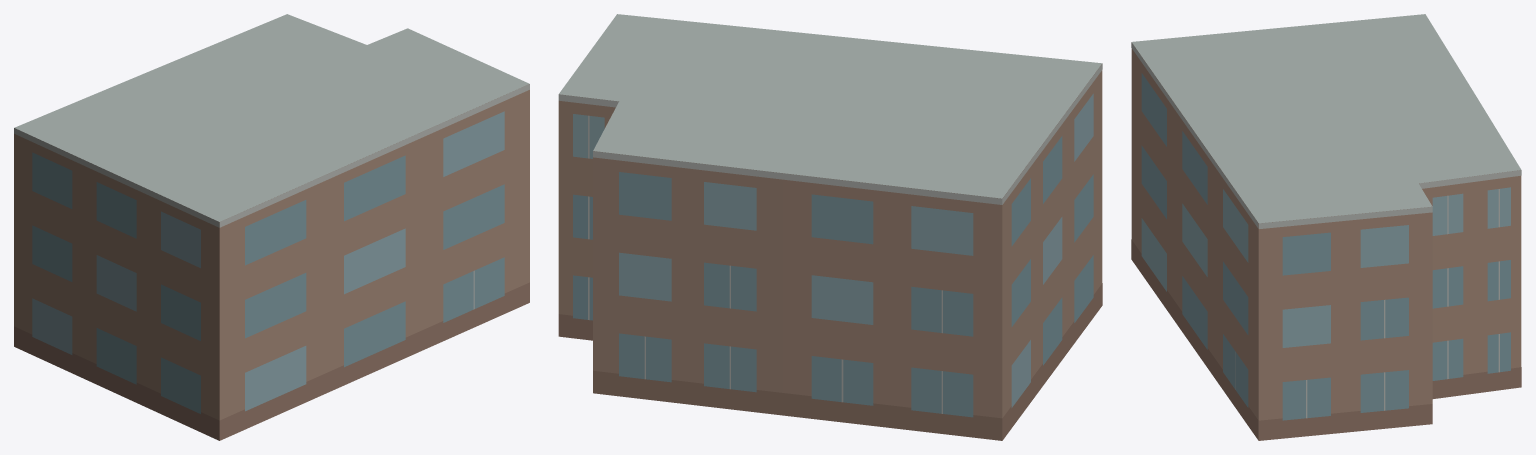
The model's file is survey-upis-33040069.glb.
The picture shows the model from 3 angles, left to right: view 1: azimuth 30°, elevation 25°; view 2: azimuth 150°, elevation 25°; view 3: azimuth 270°, elevation 25°; orthographic projection. The views are drawn at different scales.
Parts seen in each view (by area): view 1: survey-upis-33040069.tmp; view 2: survey-upis-33040069.tmp; view 3: survey-upis-33040069.tmp.
Part boxes in pixels (box(x1,y1,x2,y2)): survey-upis-33040069.tmp: box(14, 14, 529, 440); survey-upis-33040069.tmp: box(558, 14, 1102, 440); survey-upis-33040069.tmp: box(1131, 14, 1521, 440).
Size of the model in its own units: 18.9 by 9.15 by 14.88.
